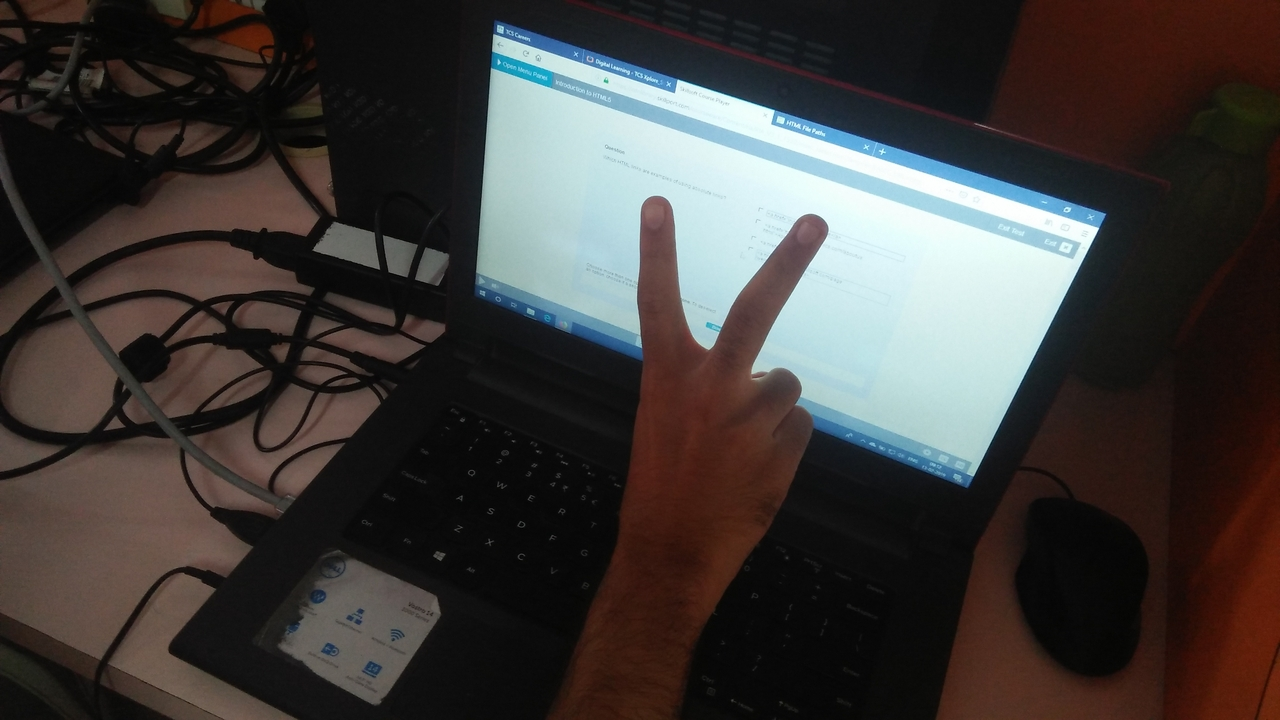fingertip: (774, 202, 836, 254), (630, 188, 682, 232)
